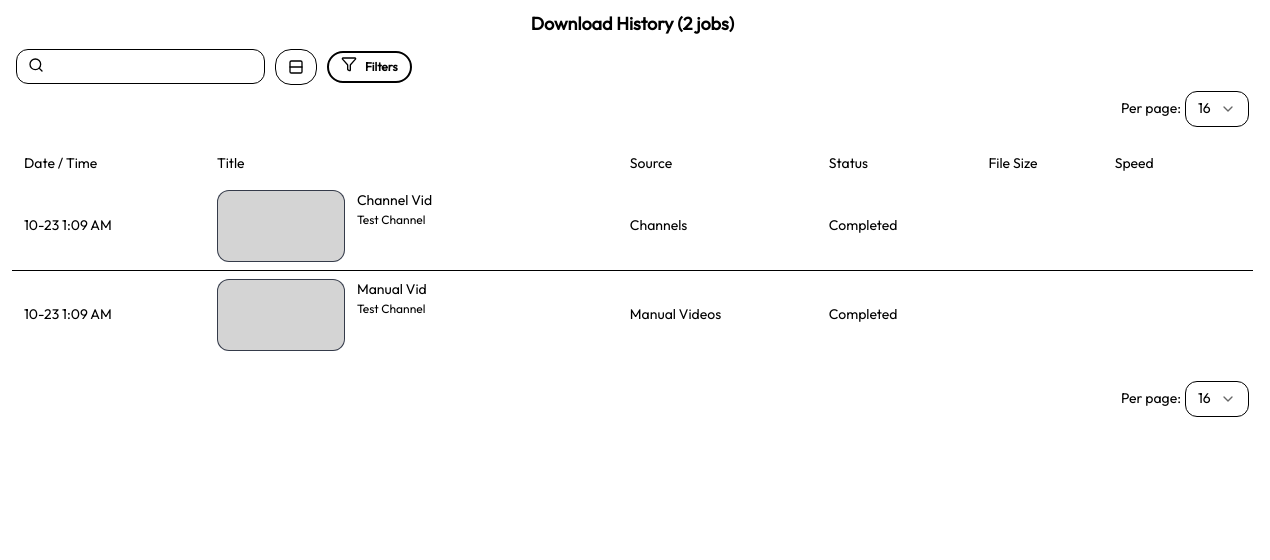
Test case: DownloadHistory › Source filter narrows the list to jobs matching the selected source
Expected: the button "Channel Vid" is shown, x1=357 y1=190 x2=432 y2=211
Expected: the button "Manual Vid" is shown, x1=357 y1=279 x2=427 y2=300
What coordinates should you click on to do the following:
click the button with test id "video-list-filters-button"
I would click on:
 (369, 67)
Its box is x1=327 y1=51 x2=412 y2=83.
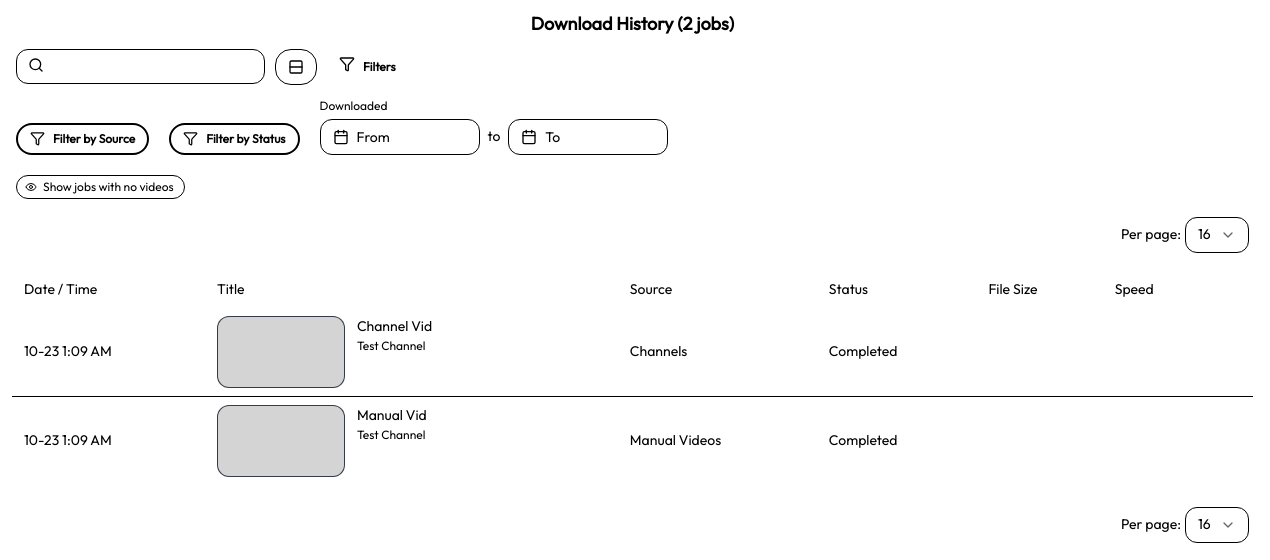
What coordinates should you click on to do the following:
click the button "Filter by Source"
I would click on:
 (83, 139)
Its box is x1=16 y1=123 x2=149 y2=155.
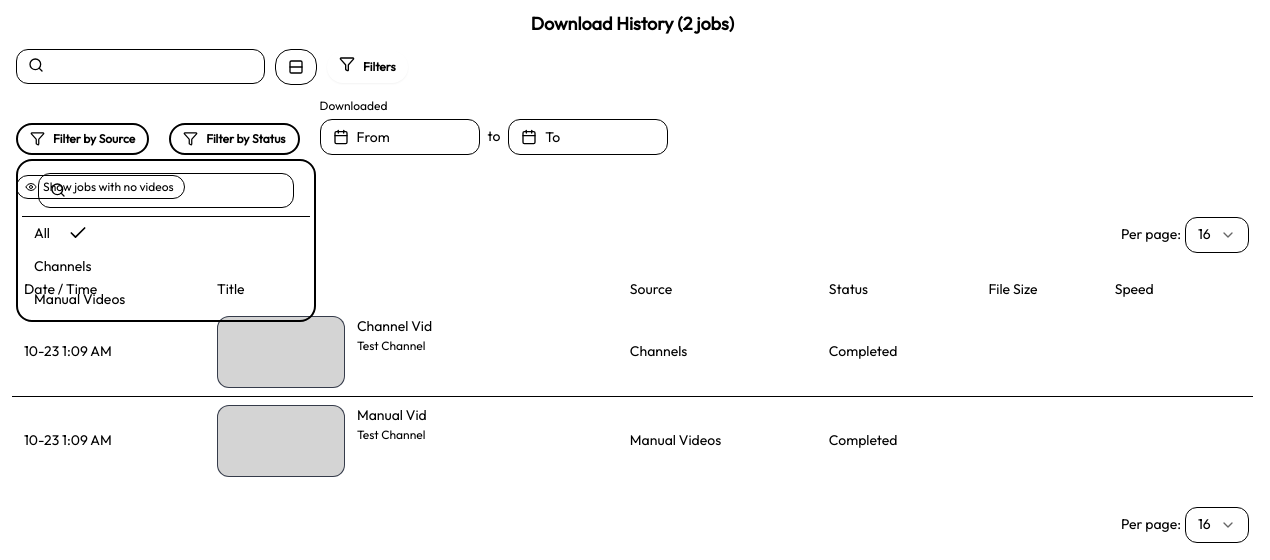
What coordinates should you click on to do the following:
click the menu item with test id "filter-menu-Channels"
I would click on:
 (63, 266)
Its box is x1=34 y1=257 x2=91 y2=275.
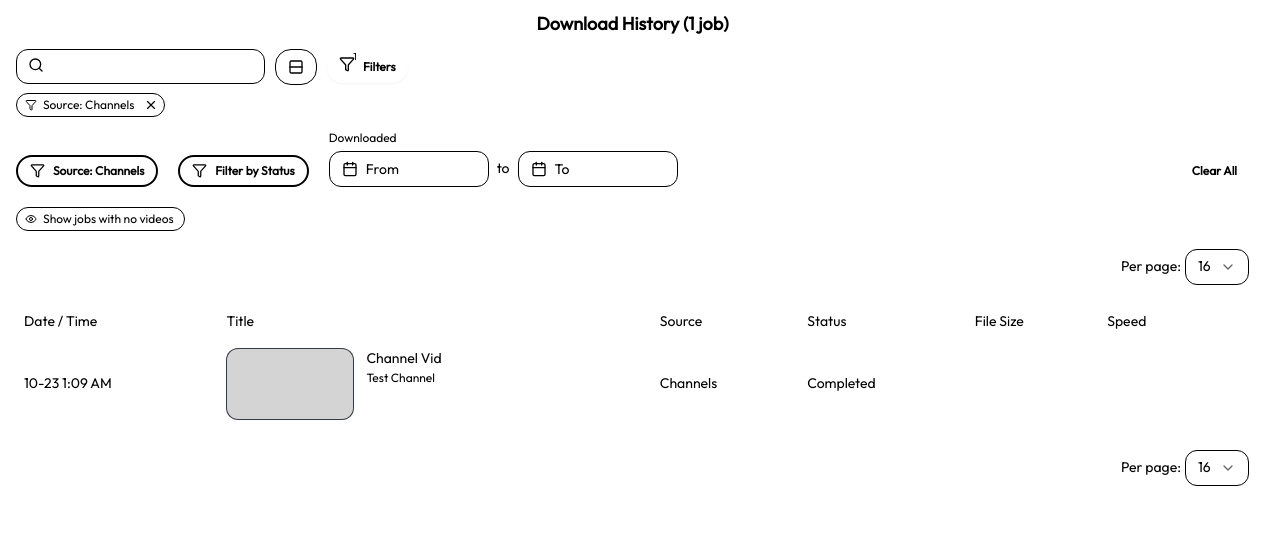
Expected: the button "Channel Vid" is shown, x1=366 y1=348 x2=442 y2=369
Expected: the menu item "Manual Vid" is gone
